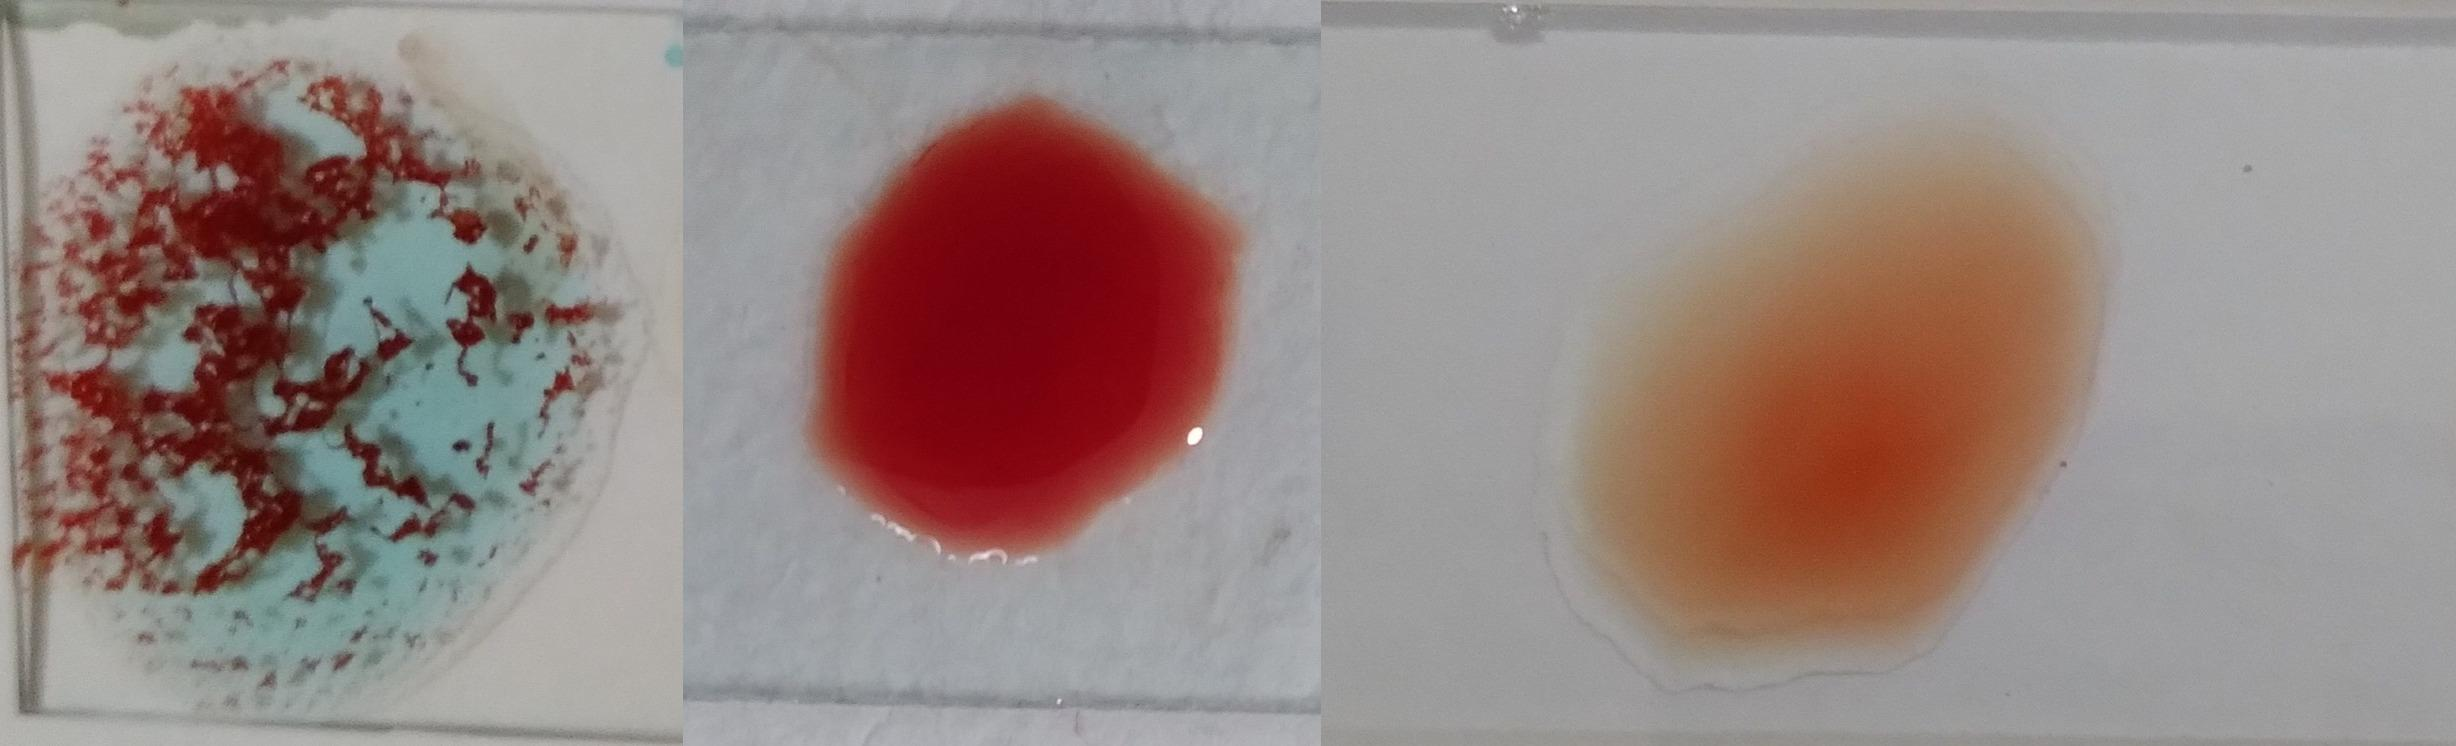A: (20, 36, 592, 679)
